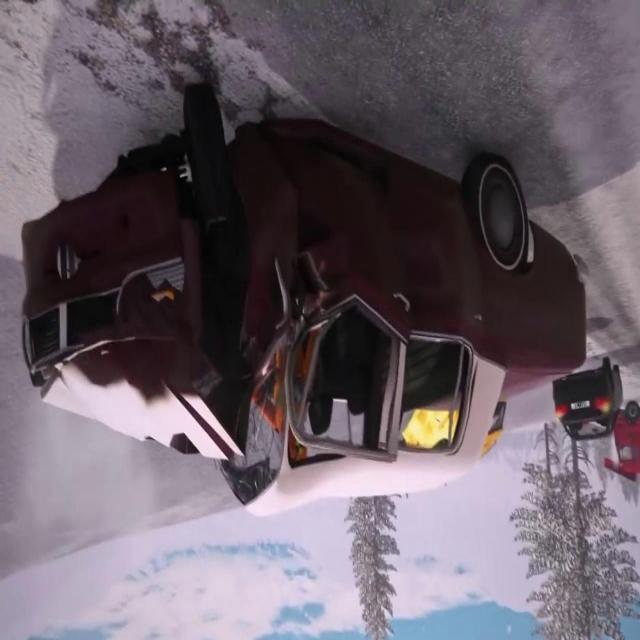vehicle: (21, 42, 606, 505)
